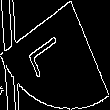L_NE: (32, 28, 78, 82)
